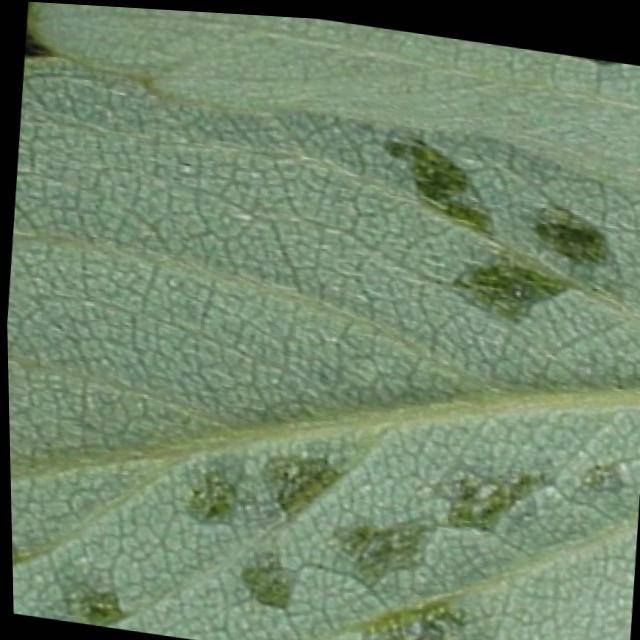Angular Leafspot: (8, 16, 640, 640)
